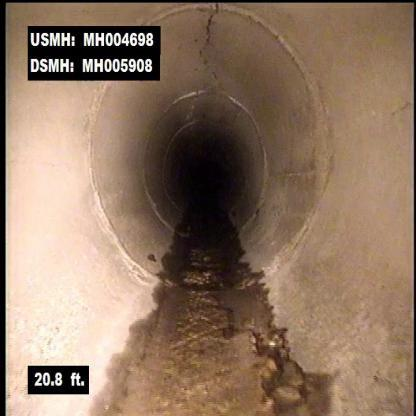crack: (187, 10, 226, 72), (386, 74, 414, 138)
hole: (203, 290, 308, 406)
